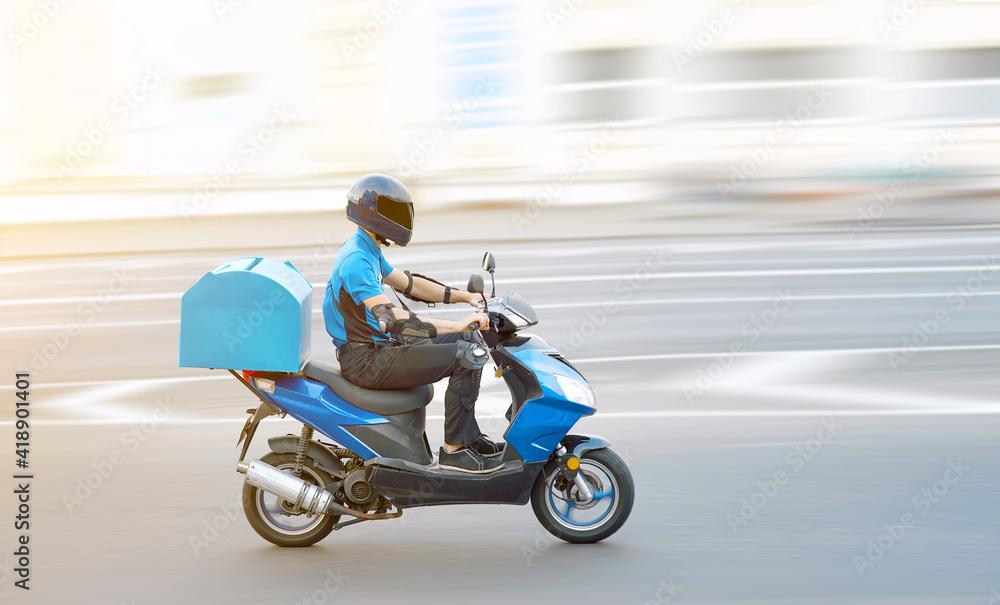helmet: (345, 172, 415, 248)
